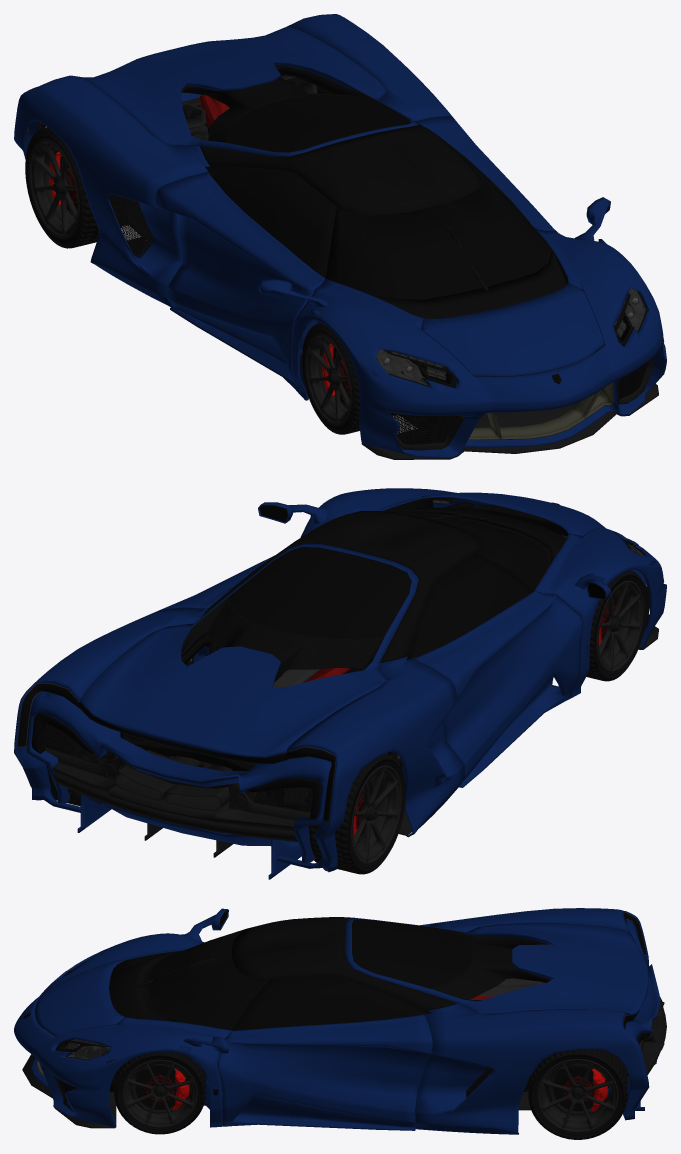
File: car.obj
3 views of the same model, one above another, from view 1: azimuth 30°, elevation 25°; view 2: azimuth 150°, elevation 25°; view 3: azimuth 270°, elevation 25° (orthographic). The views are drawn at different scales.
Visible parts, largest first — view 1: Body_BodyShell_289, 38_Window001, Body_BodyShell_290, Body_RDoorRot_RDoorPivot_DooR_199, Body_Hatch_253, Body_219_BodyShell, Body_BodyShell_264, Body_RDoorRot_RDoorPivot_DooR_310, Body_BodyShell_Detail_14, Body_Hatch_39, Chassis_265_UnderCover, Wheels_WheelRR_321_Tires2 (+10 smaller); view 2: Body_Hatch_253, Body_BodyShell_290, Body_RDoorRot_RDoorPivot_DooR_199, 38_Window001, Body_282_Tail001, Body_BodyShell_289, Body_219_BodyShell, Body_RDoorRot_RDoorPivot_DooR_310, Body_Hatch_39, Wheels_WheelRR_321_Tires2, Body_Tail_p168, Body_Tail_p21 (+23 smaller); view 3: Body_BodyShell_290, Body_LDoorRot_LDoorPivot_DoorL_199, 38_Window001, Body_BodyShell_289, Body_Hatch_253, Body_219_BodyShell, Body_LDoorRot_LDoorPivot_DoorL_87, Body_BodyShell_264, Body_Hatch_39, Wheels_WheelLR_321_Tires2, Wheels_WheelLR_Tires2_158, WheelLF_Wheels_321_Tires (+12 smaller).
Part boxes in pixels (box(x1,y1,x2,y2)): Body_BodyShell_289: box(291, 228, 666, 458); 38_Window001: box(227, 94, 548, 299); Body_BodyShell_290: box(14, 14, 453, 307); Body_RDoorRot_RDoorPivot_DooR_199: box(155, 172, 325, 394); Body_Hatch_253: box(83, 27, 418, 156); Body_219_BodyShell: box(200, 114, 481, 215); Body_BodyShell_264: box(421, 283, 604, 376); Body_RDoorRot_RDoorPivot_DooR_310: box(205, 166, 336, 278); Body_BodyShell_Detail_14: box(364, 242, 566, 329); Body_Hatch_39: box(181, 64, 379, 142); Chassis_265_UnderCover: box(127, 209, 658, 459); Wheels_WheelRR_321_Tires2: box(28, 139, 79, 238); Body_Hatch_253: box(80, 543, 418, 763); Body_BodyShell_290: box(14, 607, 464, 872); Body_RDoorRot_RDoorPivot_DooR_199: box(413, 591, 582, 787); 38_Window001: box(227, 510, 548, 639); Body_282_Tail001: box(26, 691, 331, 879); Body_BodyShell_289: box(300, 488, 666, 697); Body_219_BodyShell: box(200, 511, 481, 662); Body_RDoorRot_RDoorPivot_DooR_310: box(406, 553, 533, 660); Body_Hatch_39: box(181, 599, 383, 682); Wheels_WheelRR_321_Tires2: box(351, 765, 402, 864); Body_Tail_p168: box(160, 801, 297, 841); Body_Tail_p21: box(115, 750, 232, 810); Body_BodyShell_290: box(415, 908, 649, 1134); Body_LDoorRot_LDoorPivot_DoorL_199: box(218, 1014, 432, 1130); 38_Window001: box(147, 919, 474, 1030); Body_BodyShell_289: box(14, 933, 231, 1127); Body_Hatch_253: box(346, 917, 648, 1021); Body_219_BodyShell: box(231, 917, 456, 1010); Body_LDoorRot_LDoorPivot_DoorL_87: box(232, 975, 431, 1030); Body_BodyShell_264: box(35, 960, 124, 1036); Body_Hatch_39: box(433, 930, 551, 1001); Wheels_WheelLR_321_Tires2: box(537, 1058, 618, 1133); Wheels_WheelLR_Tires2_158: box(528, 1049, 627, 1139); WheelLF_Wheels_321_Tires: box(122, 1059, 197, 1128).
Bounding box in the file's own units: 2.28 × 1.09 × 4.57.
